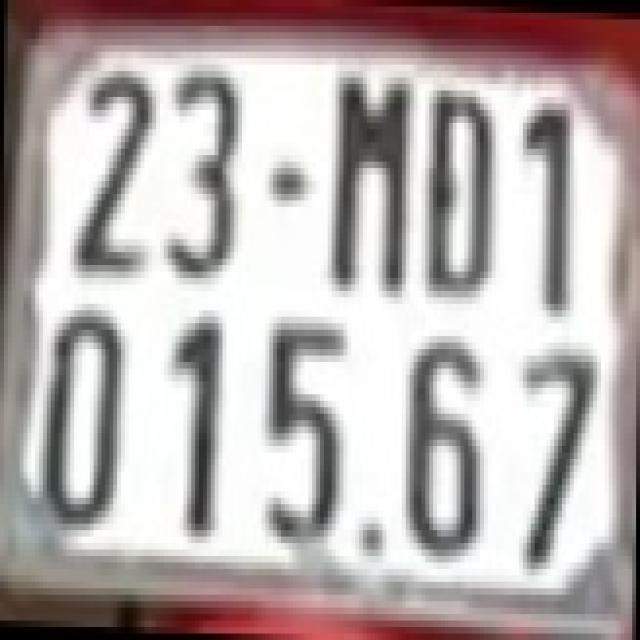0: (39, 304, 125, 530)
1: (168, 310, 226, 537), (523, 104, 577, 310)
2: (78, 65, 152, 272)
3: (168, 65, 238, 278)
5: (266, 317, 344, 543)
6: (406, 336, 480, 556)
7: (519, 349, 597, 569)
D: (426, 84, 496, 297)
M: (332, 71, 409, 291)
